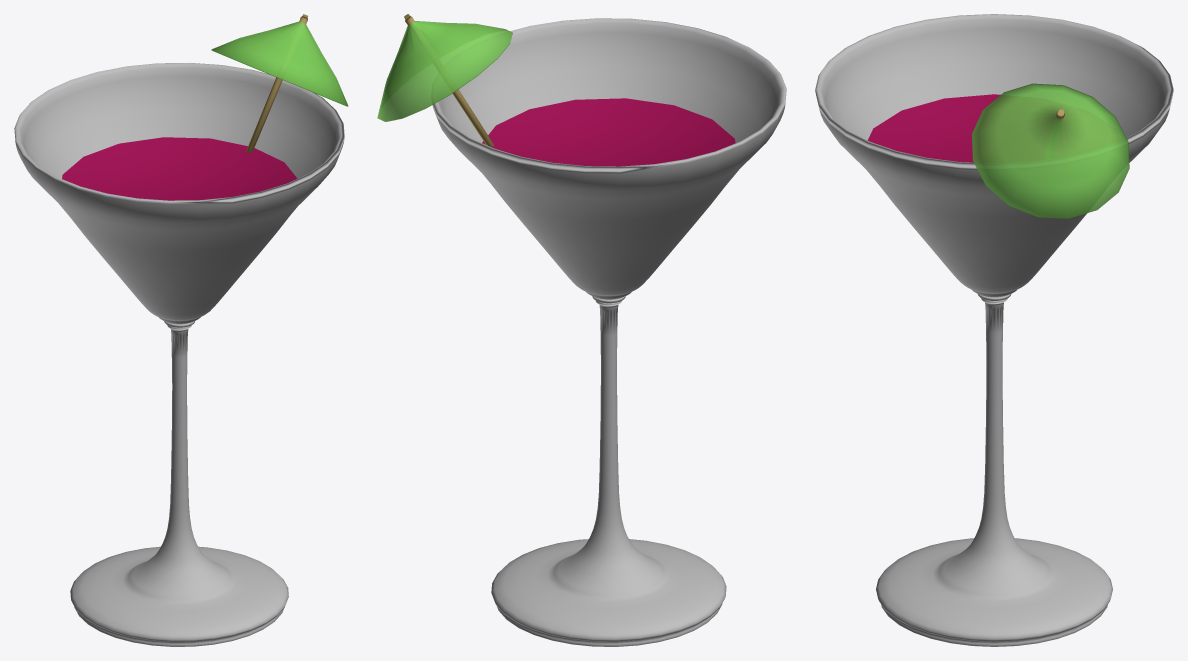
Rendered from cocktail.fbx.
3 views of the same model, side by side, from view 1: azimuth 30°, elevation 25°; view 2: azimuth 150°, elevation 25°; view 3: azimuth 270°, elevation 25° (orthographic). The views are drawn at different scales.
Visible parts, largest first — view 1: Glass, Liquid, Umbrella; view 2: Glass, Liquid, Umbrella; view 3: Glass, Umbrella, Liquid.
Part boxes in pixels (bbox=[...]): Glass: bbox=[14, 63, 344, 646]; Liquid: bbox=[62, 137, 297, 200]; Umbrella: bbox=[211, 14, 348, 152]; Glass: bbox=[432, 18, 786, 646]; Liquid: bbox=[482, 98, 735, 166]; Umbrella: bbox=[377, 14, 512, 146]; Glass: bbox=[815, 14, 1173, 646]; Umbrella: bbox=[971, 83, 1129, 218]; Liquid: bbox=[867, 94, 1000, 162].
Bounding box in the file's own units: 0.6127 × 0.9534 × 0.5414.
